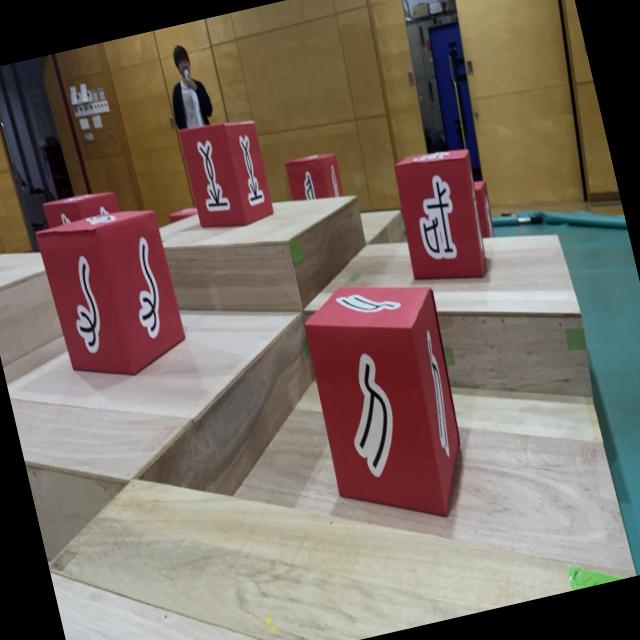10: (334, 349, 406, 481), (416, 330, 458, 458), (335, 283, 402, 322)
11: (300, 170, 316, 201), (328, 165, 340, 198)
13: (120, 235, 170, 342), (61, 254, 109, 356)
5: (408, 172, 466, 264)
7: (192, 137, 232, 216), (233, 132, 265, 206)
fighter: (294, 266, 482, 538), (35, 200, 192, 390), (388, 143, 498, 294), (177, 112, 276, 235), (284, 149, 344, 208), (42, 186, 120, 228), (470, 180, 498, 240), (168, 205, 198, 221)
